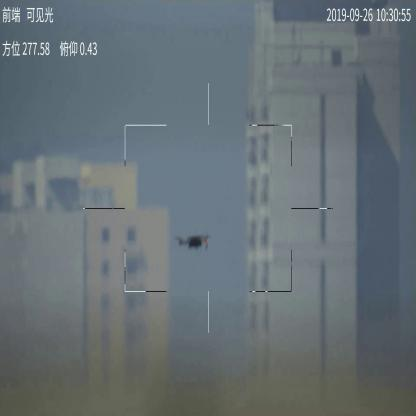uav: (174, 233, 215, 251)
